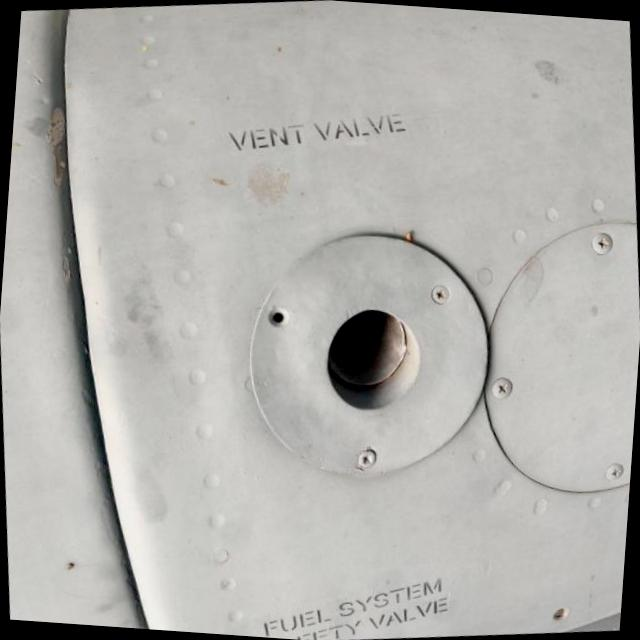Missing Fastener: (269, 307, 291, 327)
